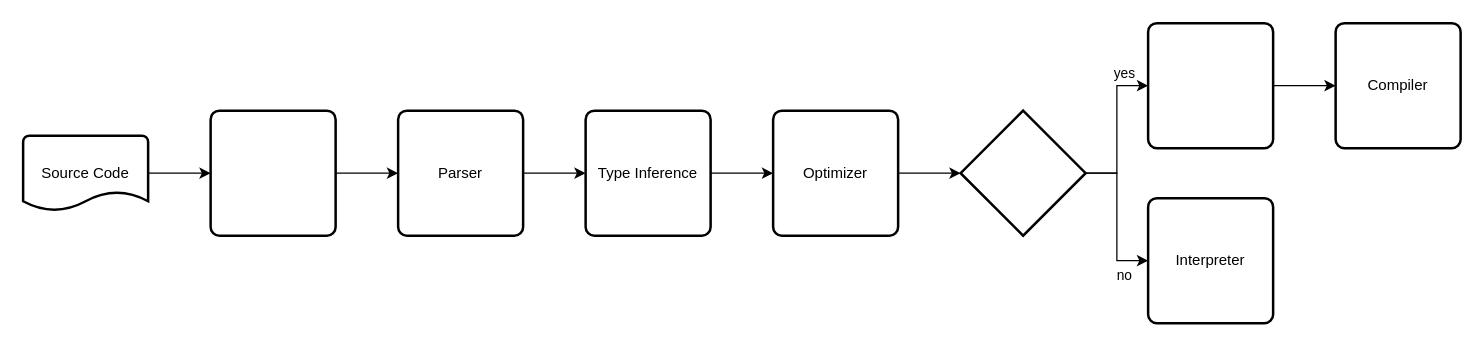
Image size: 1483x345. Some labels were removed from this diagram. Each missing label, with the centre of its shape:
"Compiled?" belongs at pixel 1022 172.
"Lexer" belongs at pixel 272 172.
"Monomorphizer" belongs at pixel 1210 85.
